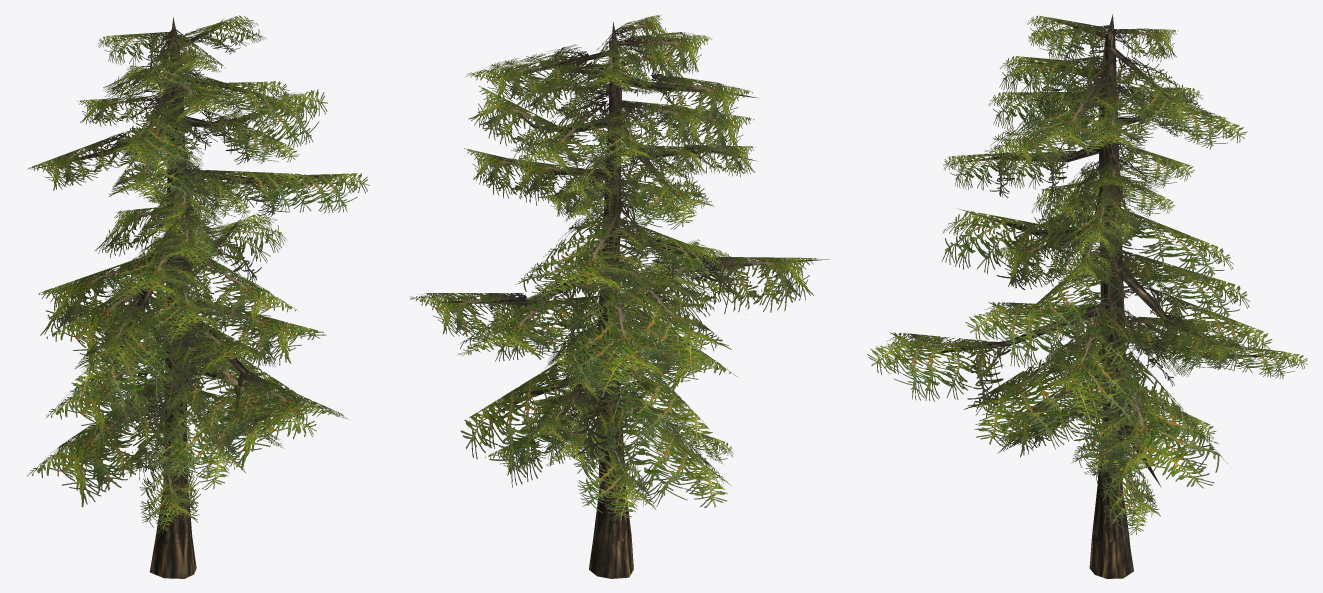
The model's file is ts_yxobj018.FBX.
The picture shows the model from 3 angles, left to right: view 1: azimuth 30°, elevation 25°; view 2: azimuth 150°, elevation 25°; view 3: azimuth 270°, elevation 25°; orthographic projection.
Visible parts, largest first — view 1: ts_yxobj018; view 2: ts_yxobj018; view 3: ts_yxobj018.
Part boxes in pixels (x1,y1,x2,y2): ts_yxobj018: (27,15,369,578); ts_yxobj018: (409,15,829,578); ts_yxobj018: (867,14,1307,578).
Size of the model in its own units: 9.3 by 14.34 by 10.41.
